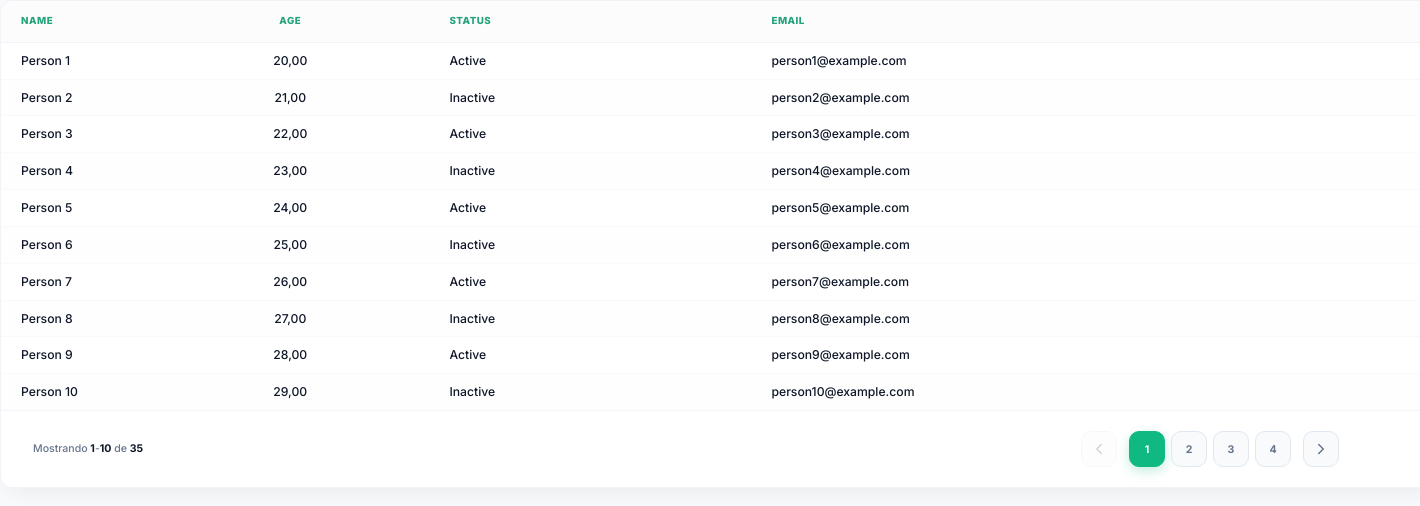
Scenario: ModernTable Integration Tests › Pagination › navigates to previous page
Click the 6th button.
click(1321, 449)  # box [1303,431,1339,467]
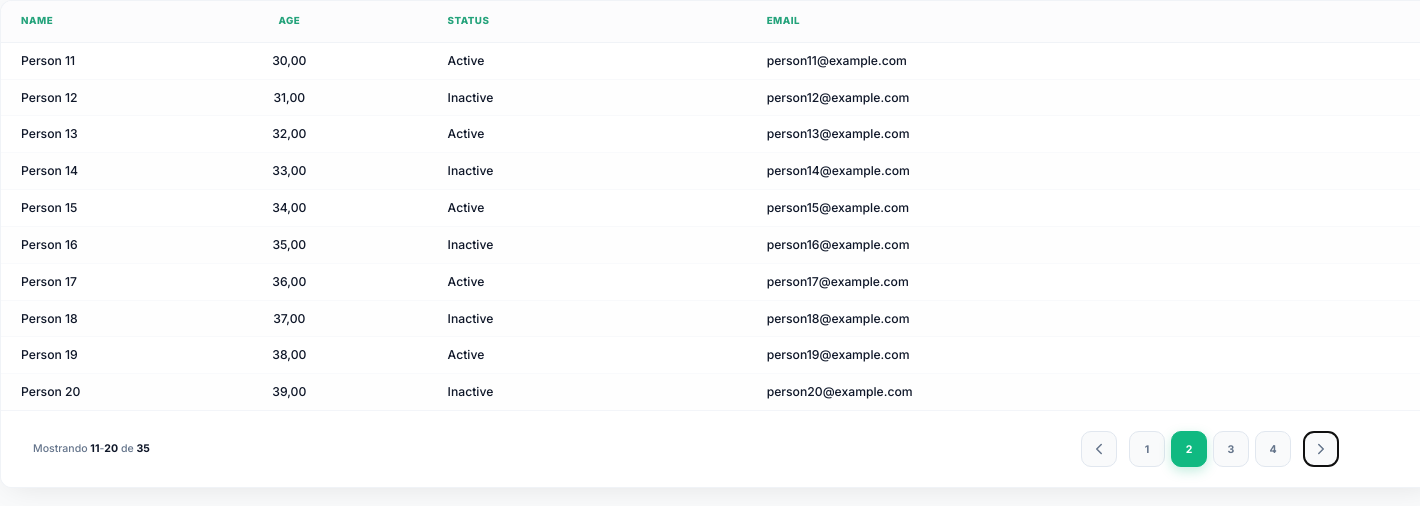
Check: the text "Person 11" is shown, box [1,42,151,79]
Click the 1st button.
click(1099, 449)  # box [1081,431,1117,467]
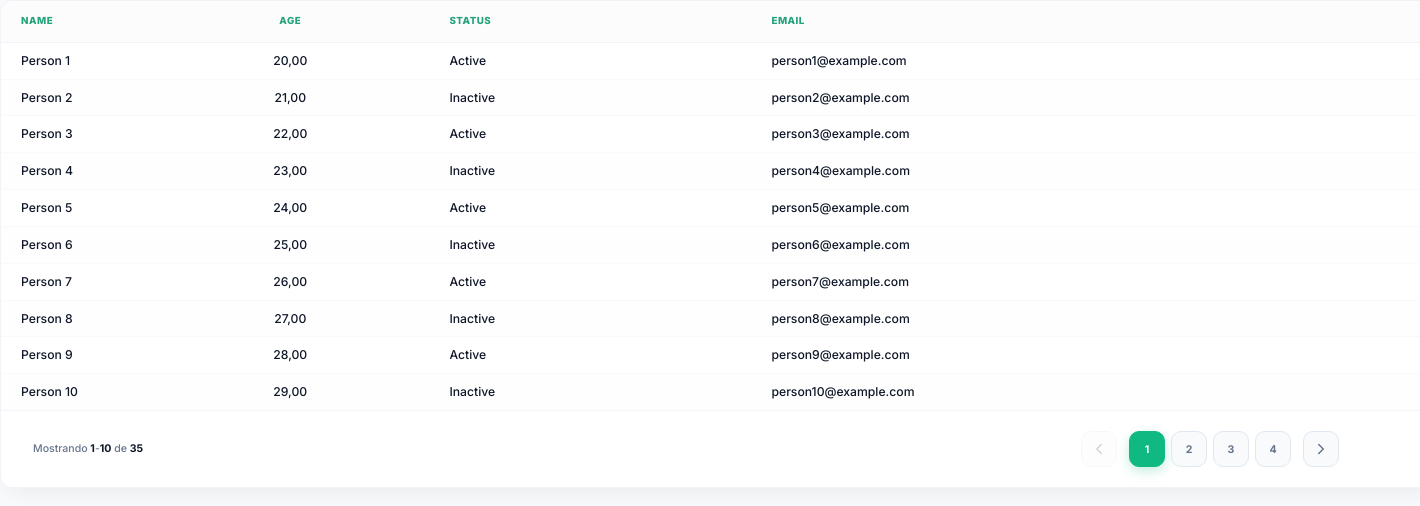
Check: the text "Person 1" is shown, box [1,42,151,79]
Check: the text "Person 11" is gone
